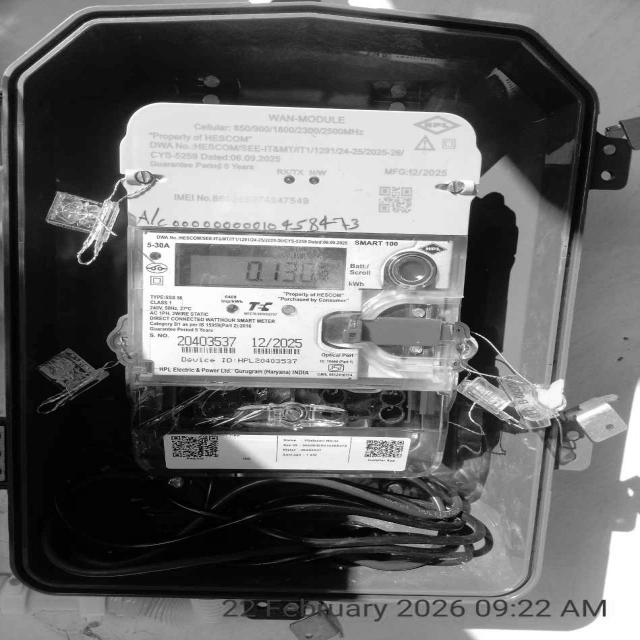meter: (126, 105, 484, 387)
